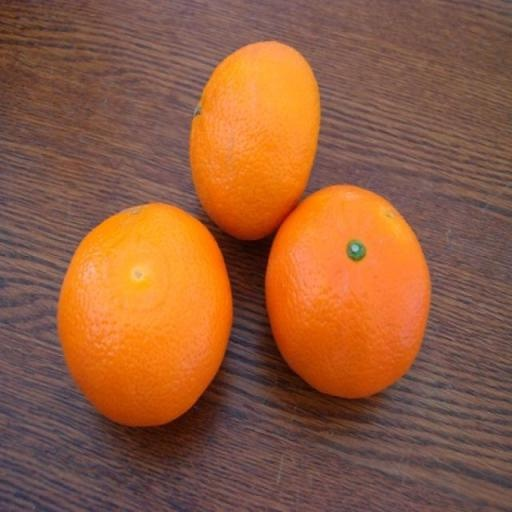fruit: (57, 204, 231, 425), (265, 186, 429, 397), (190, 42, 319, 239)
